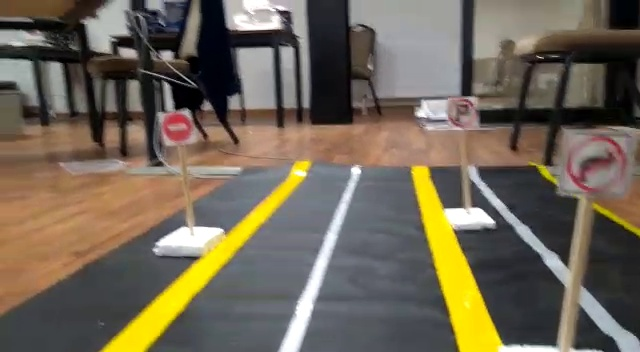girisi_olmayan_yol: (159, 109, 193, 145)
park_yapilmaz: (446, 98, 481, 128)
saga_donulmez: (566, 135, 626, 189)
